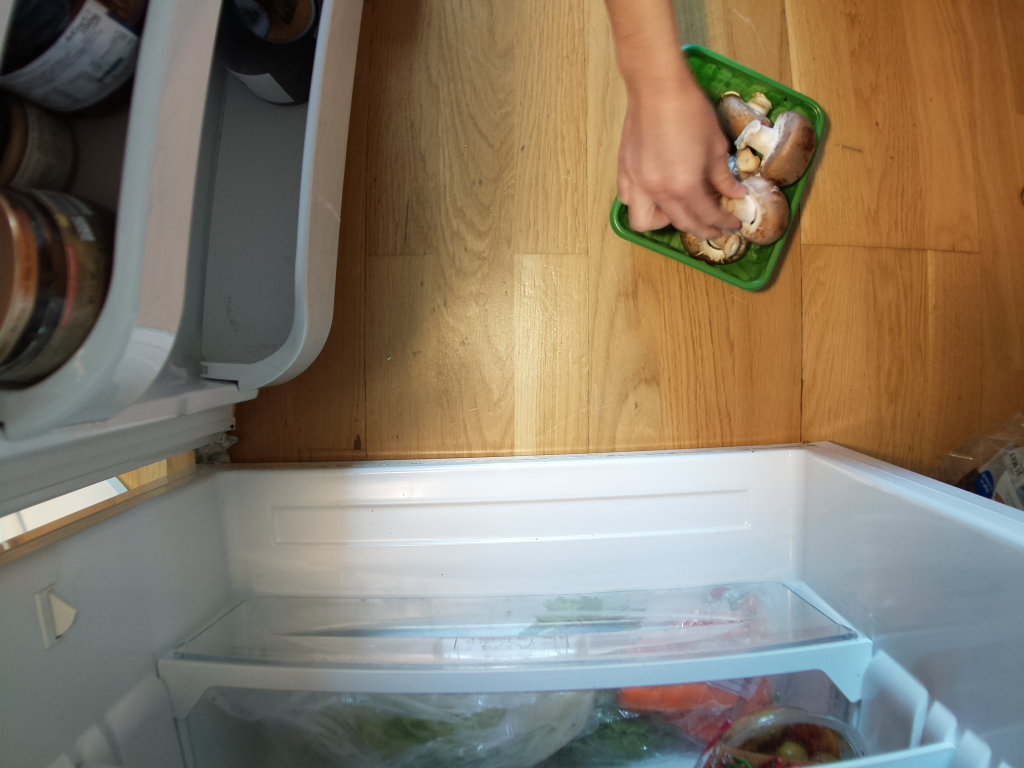mushrooms: (715, 51, 834, 286)
